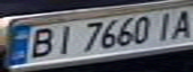0: (130, 13, 157, 46)
6: (100, 17, 124, 51), (115, 16, 139, 48)
7: (78, 19, 103, 54)
A: (166, 7, 193, 40)
B: (21, 25, 60, 61)
I: (48, 23, 78, 57), (151, 10, 181, 43)
